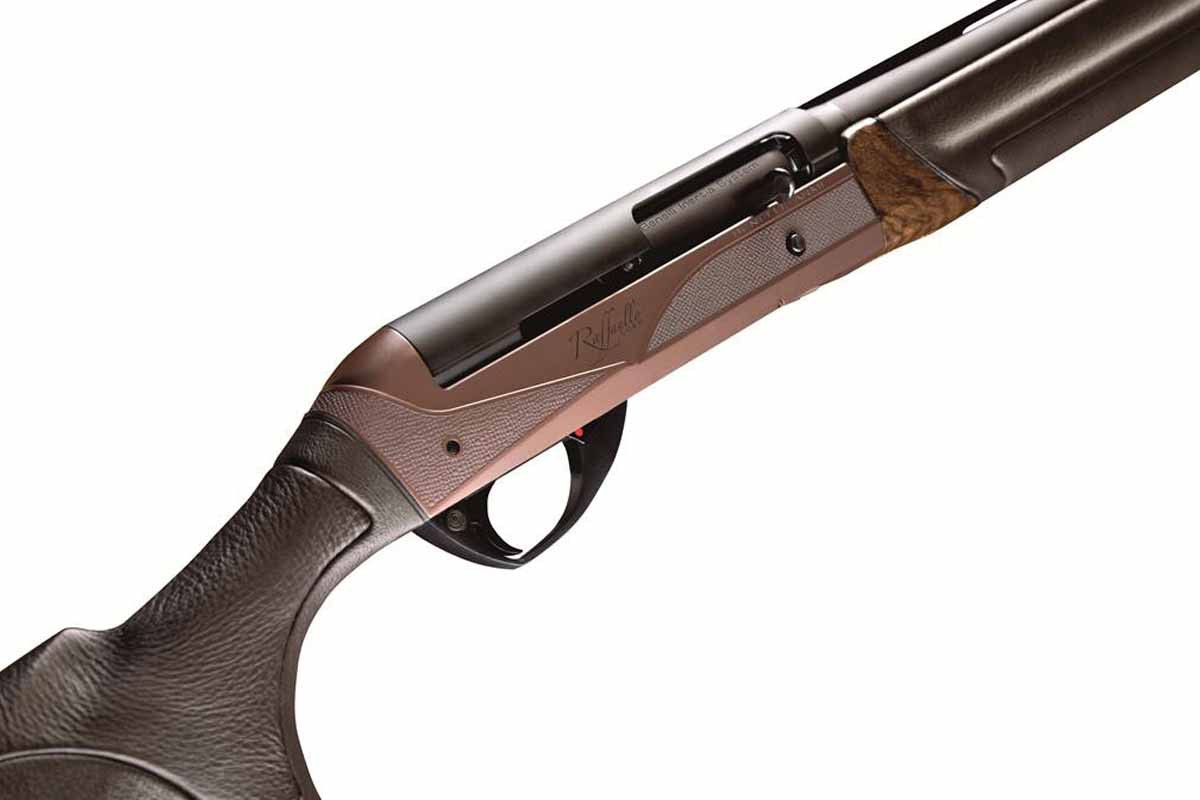weapon: (3, 1, 1200, 790)
